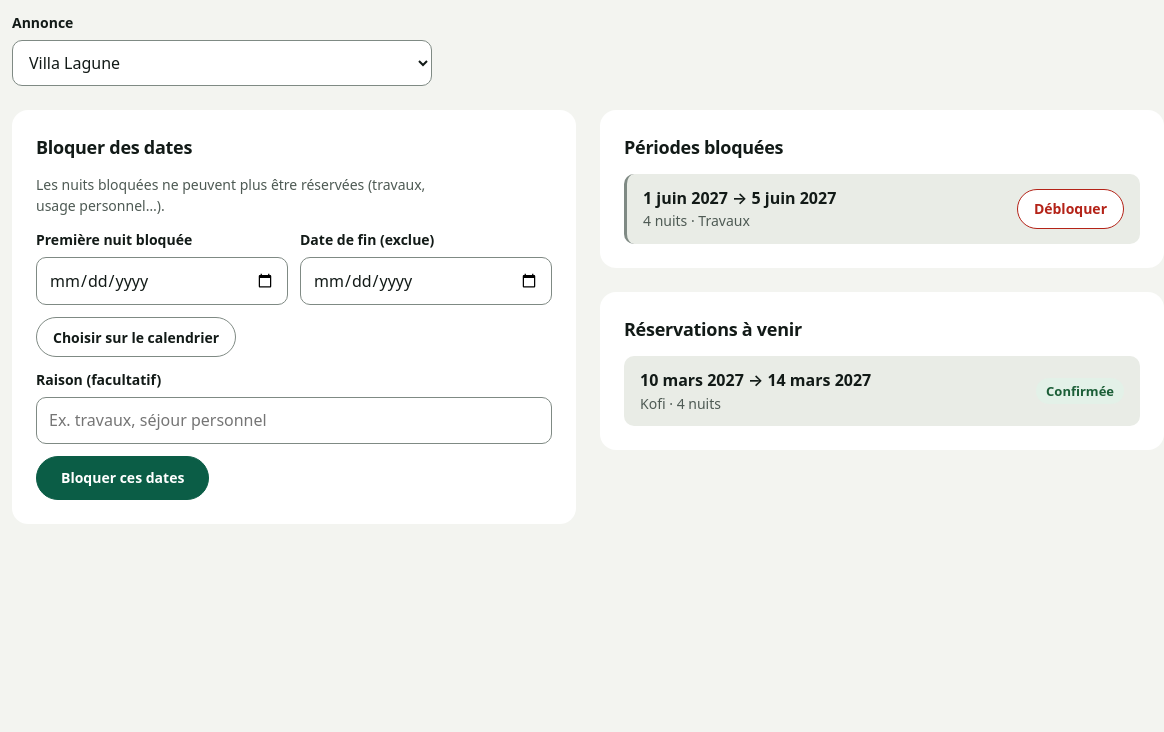
Test case: AvailabilityManager › unblocks a period after confirmation
This screenshot has width=1164, height=732.
Click the button "Débloquer" at (1070, 209), box [1017,189,1124,229]
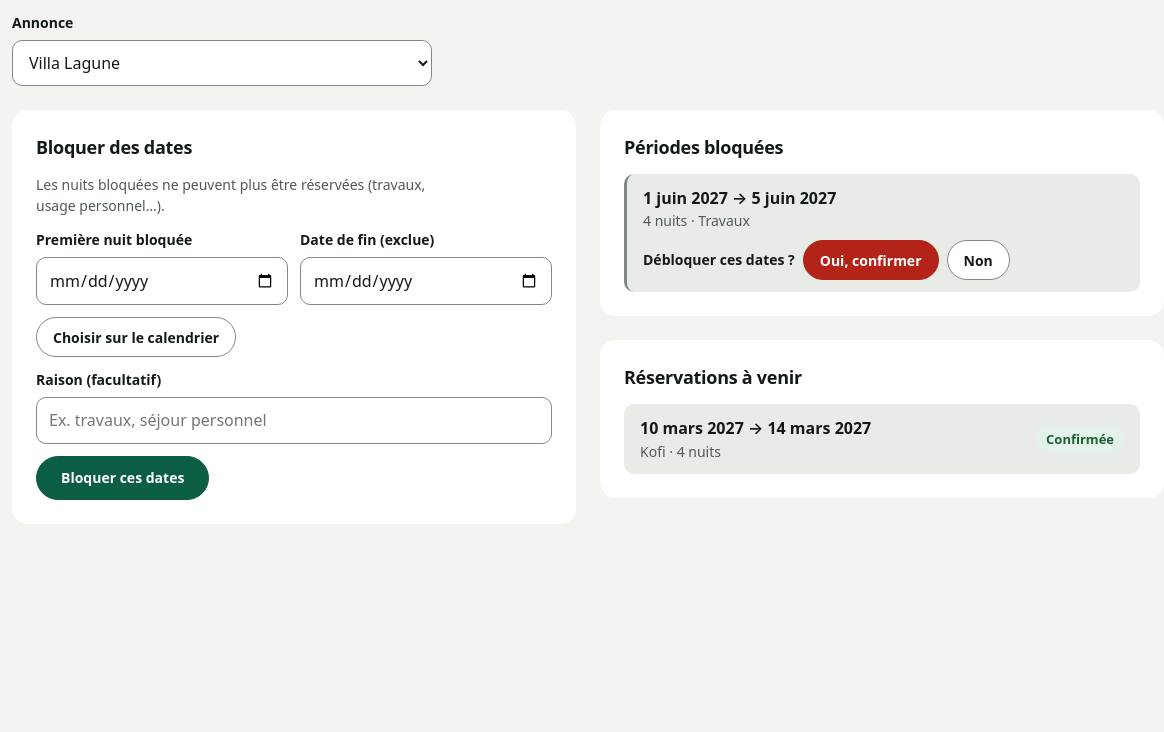
Click the button "Oui, confirmer" at (871, 260), box [803,240,938,280]
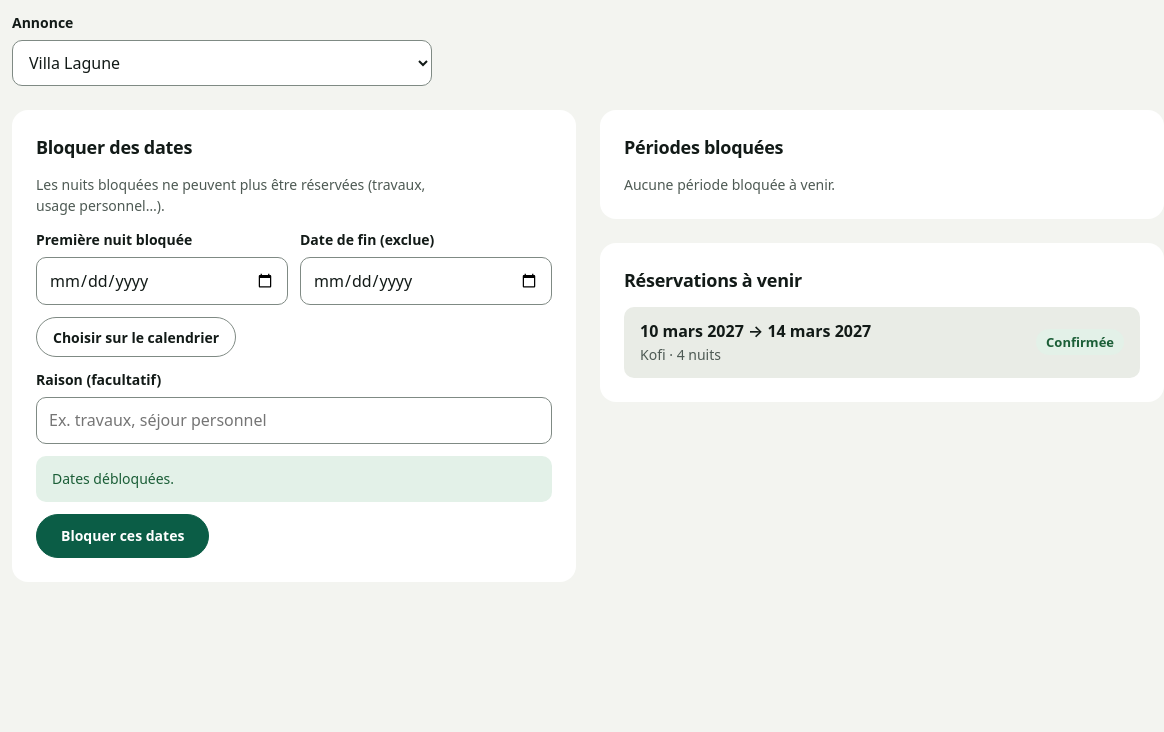
expect the text "Aucune période bloquée à venir." is shown: met, box [624,175,835,194]
